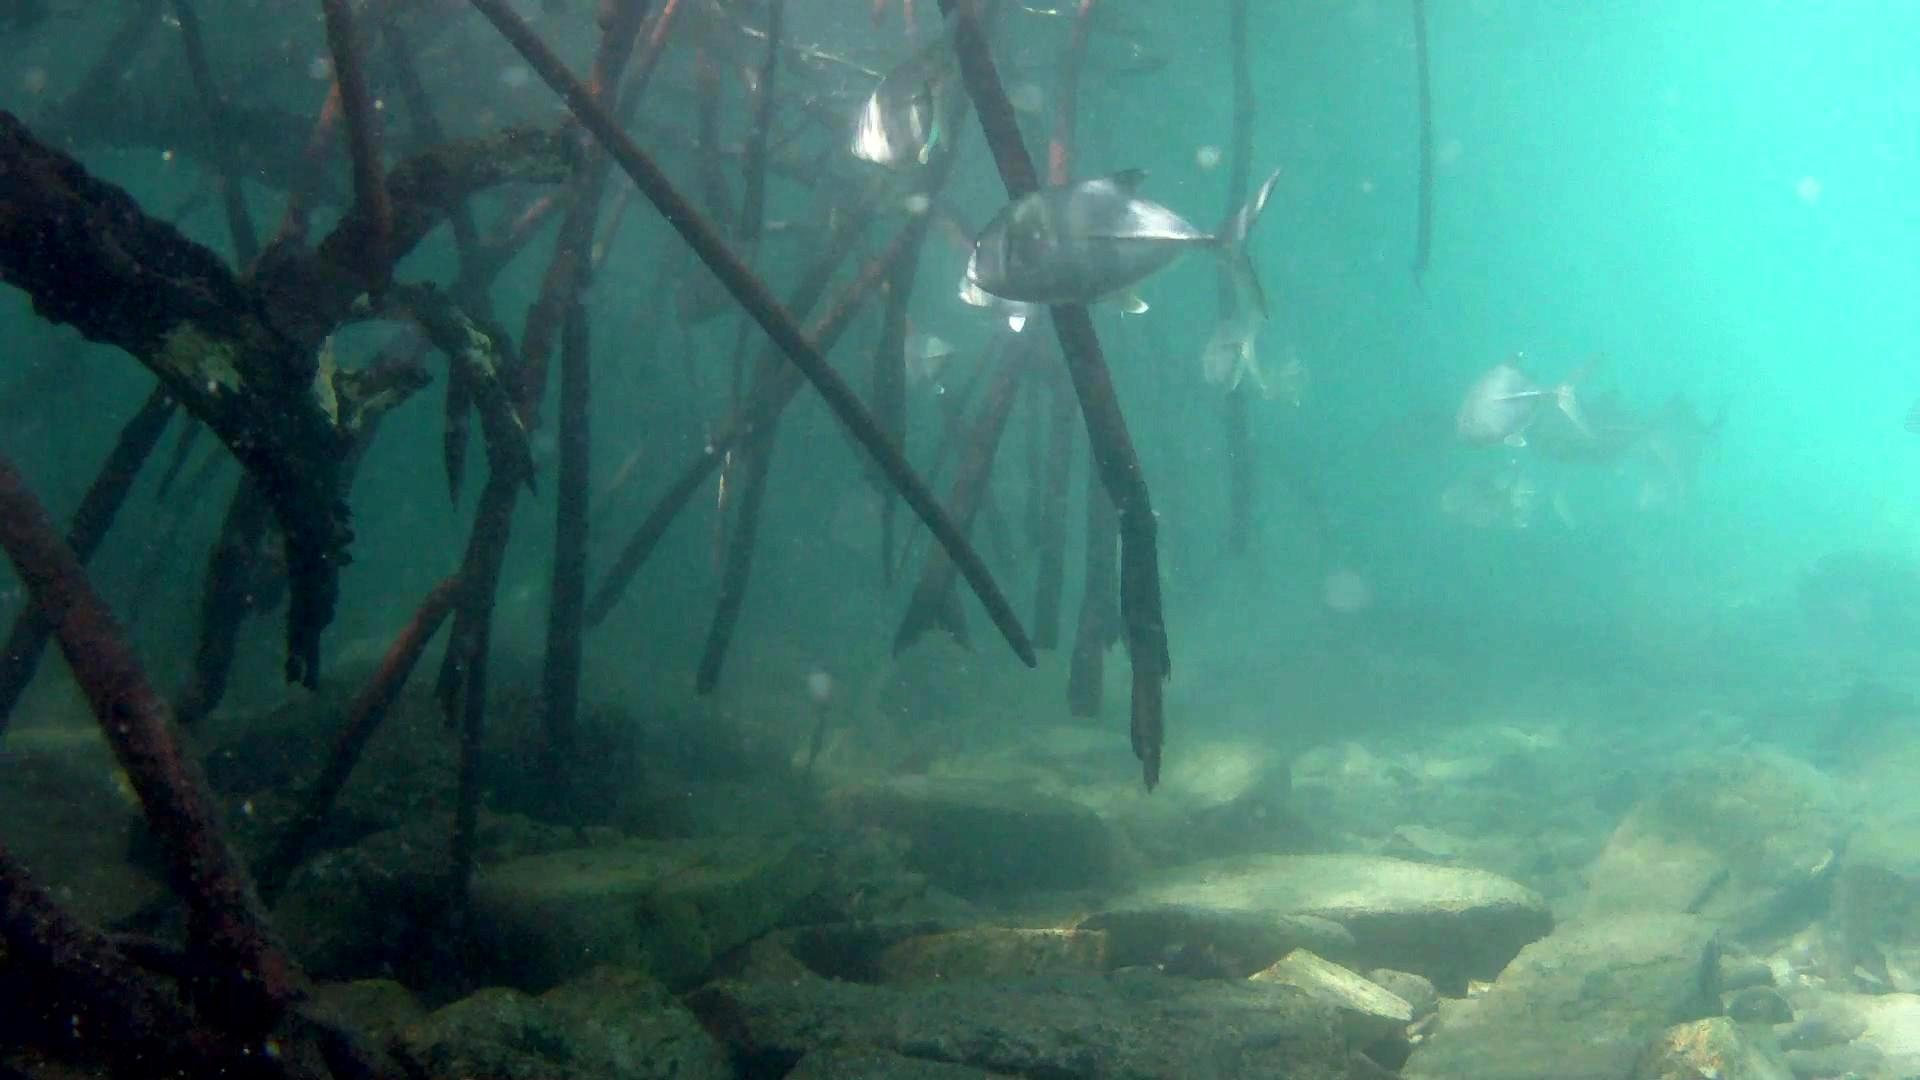caranx: (964, 145, 1295, 344)
